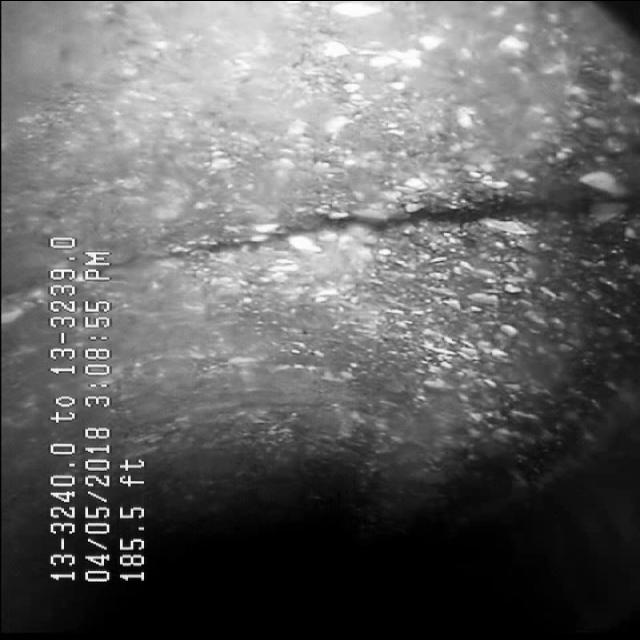Fracture: (148, 146, 618, 286)
